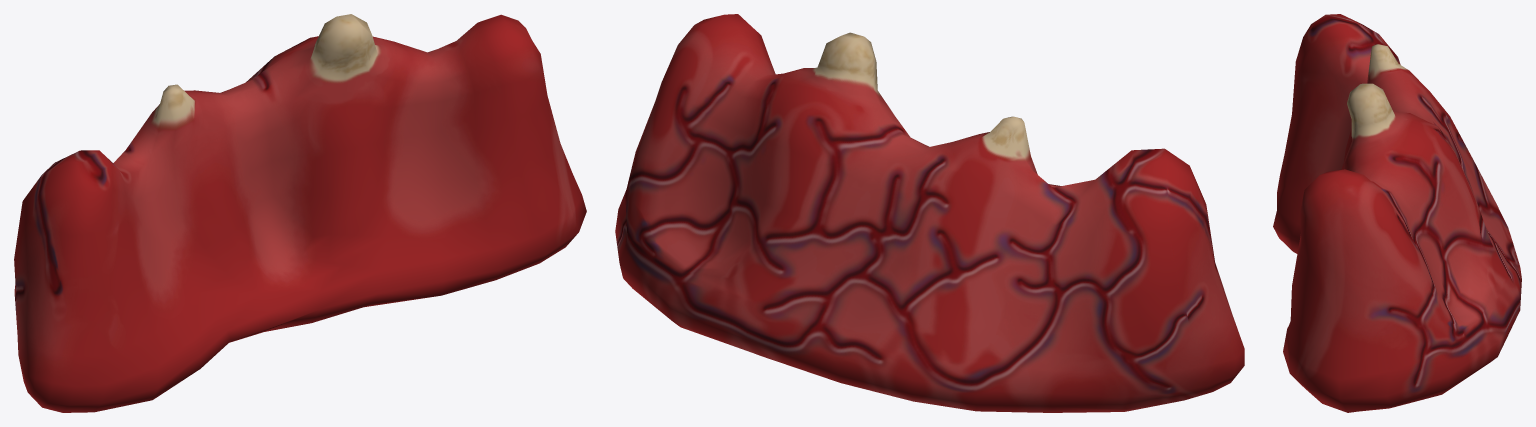
Rendered from Barrera.FBX.
3 renders of one model, left to right at view 1: azimuth 30°, elevation 25°; view 2: azimuth 150°, elevation 25°; view 3: azimuth 270°, elevation 25°, orthographic. The views are drawn at different scales.
Parts seen in each view (by area): view 1: Group64437; view 2: Group64437; view 3: Group64437.
Part boxes in pixels (box(x1,y1,x2,y2)): Group64437: box(14, 14, 586, 412); Group64437: box(615, 14, 1244, 412); Group64437: box(1273, 14, 1521, 412).
Bounding box in the file's own units: 182 × 89.45 × 75.97.
Materials: 1 (1 with a texture image).
